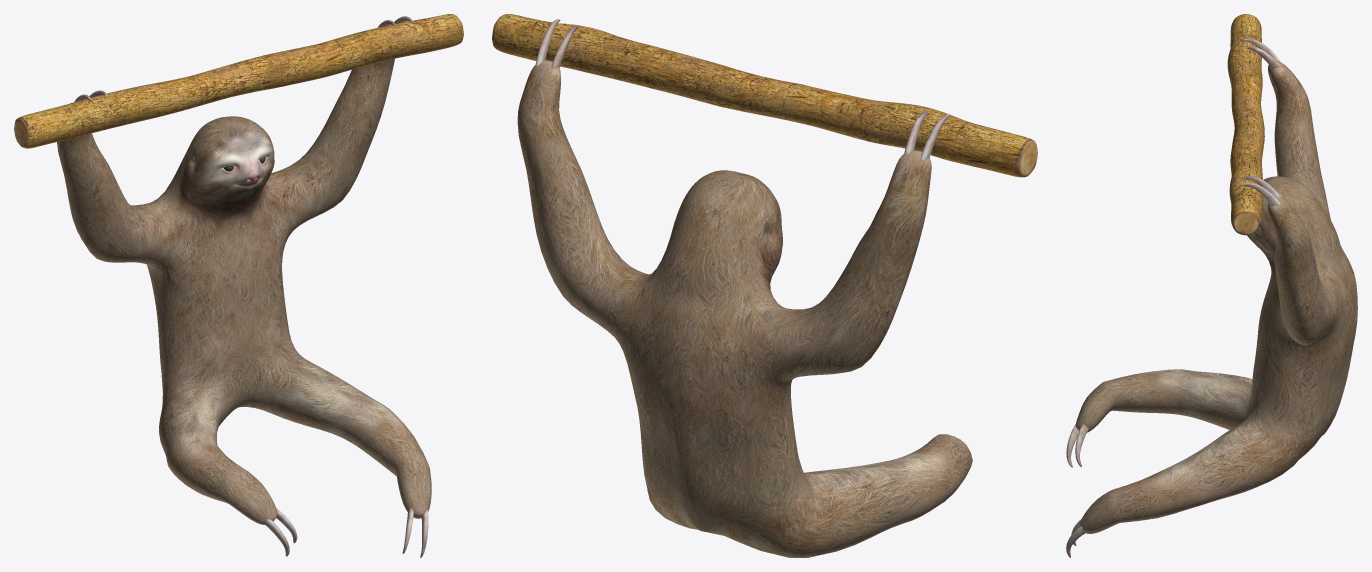
File: OsoPerezosoDeDedos.gltf
3 views of the same model, side by side, from view 1: azimuth 30°, elevation 25°; view 2: azimuth 150°, elevation 25°; view 3: azimuth 270°, elevation 25° (orthographic). The views are drawn at different scales.
Visible parts, largest first — view 1: OsoPerezoso; view 2: OsoPerezoso; view 3: OsoPerezoso.
Boxes of the visible parts, x1,y1,x2,y2 form: OsoPerezoso: (14,14,463,557); OsoPerezoso: (492,14,1037,557); OsoPerezoso: (1066,14,1357,557).
Bounding box in the file's own units: 2.9 × 2.85 × 1.82.
2 materials, 2 textured.
